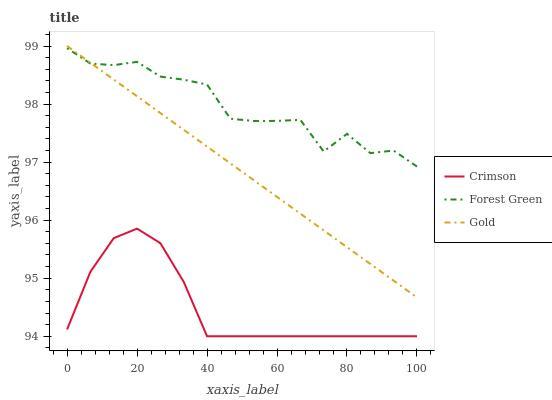axis: (59, 347, 437, 357), (43, 26, 54, 349)
legend: (435, 156, 552, 242)
line: (66, 44, 416, 297), (65, 46, 419, 169), (65, 227, 417, 339)
